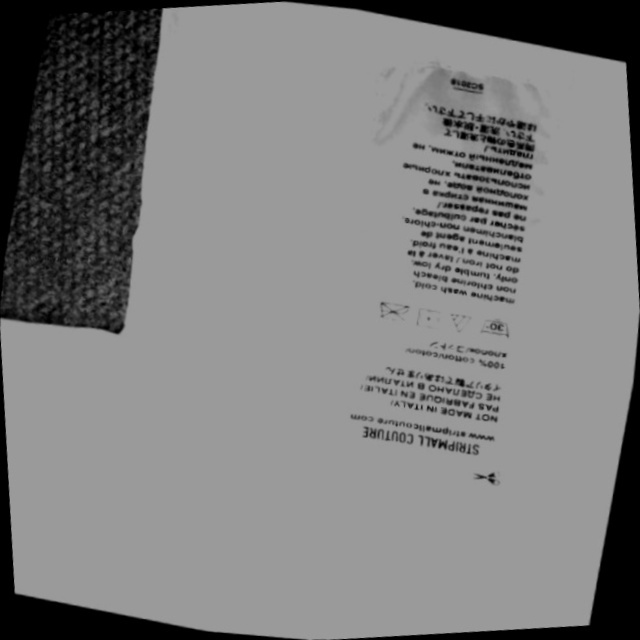30C: (476, 311, 518, 343)
DN_iron: (370, 294, 413, 331)
non_chlorine_bleach: (445, 308, 477, 337)
tumble_dry_low: (411, 302, 450, 334)
